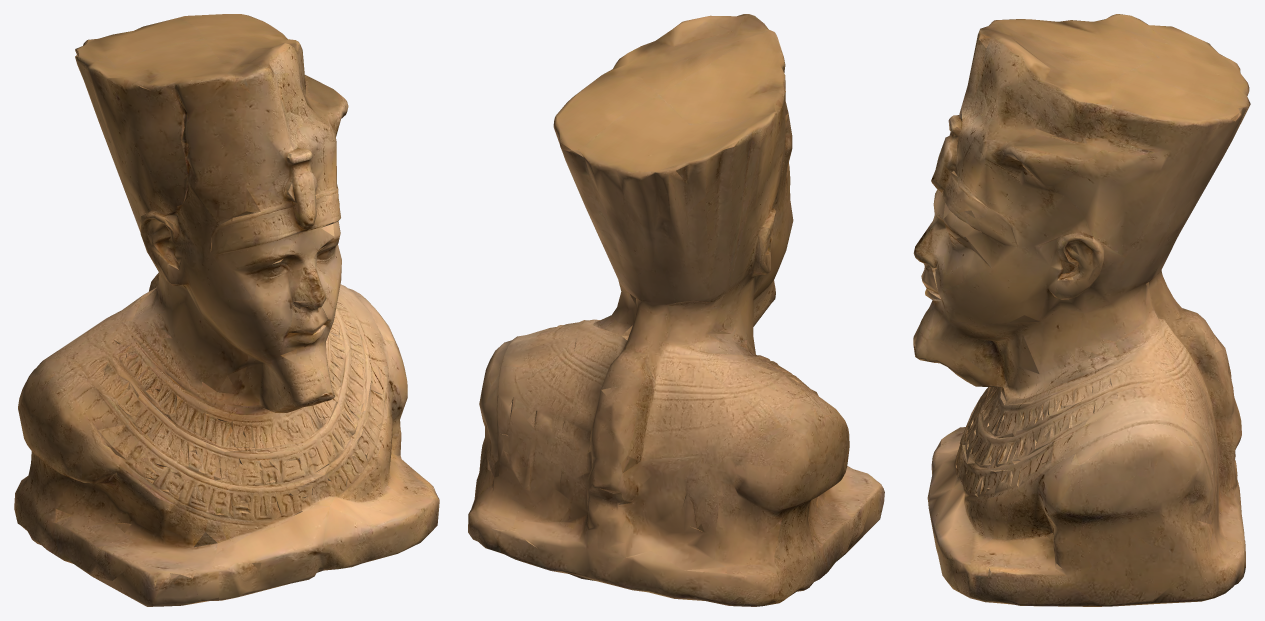
The picture shows the model from 3 angles, left to right: view 1: azimuth 30°, elevation 25°; view 2: azimuth 150°, elevation 25°; view 3: azimuth 270°, elevation 25°; orthographic projection. The views are drawn at different scales.
Visible parts, largest first — view 1: Mesh_0; view 2: Mesh_0; view 3: Mesh_0.
Boxes of the visible parts, x1,y1,x2,y2 form: Mesh_0: (14, 14, 439, 606); Mesh_0: (468, 14, 884, 606); Mesh_0: (913, 14, 1250, 606).
Size of the model in its own units: 0.4304 by 0.6 by 0.3704.
Materials: 1 (1 with a texture image).
